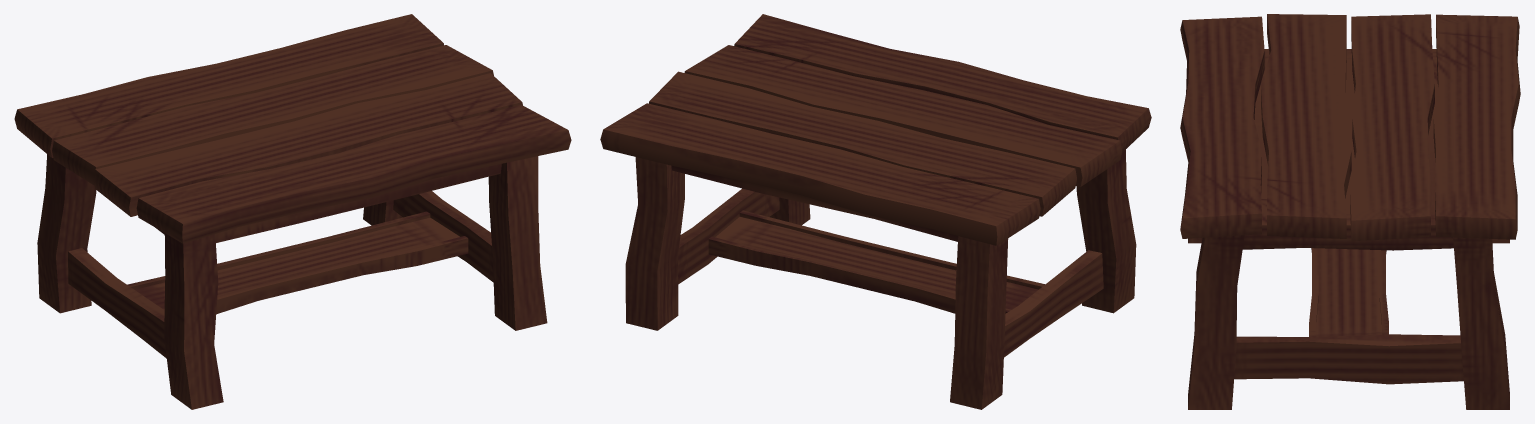
Rendered from WizardHubTableNoCloth.fbx.
3 renders of one model, left to right at view 1: azimuth 30°, elevation 25°; view 2: azimuth 150°, elevation 25°; view 3: azimuth 270°, elevation 25°, orthographic. The views are drawn at different scales.
Visible parts, largest first — view 1: polySurface13; view 2: polySurface13; view 3: polySurface13.
Boxes of the visible parts, left/top/right/bottom form: polySurface13: left=14, top=14, right=571, bottom=409; polySurface13: left=600, top=14, right=1151, bottom=409; polySurface13: left=1180, top=14, right=1520, bottom=409.
Size of the model in its own units: 3.25 by 1.46 by 2.24.
1 material, 1 textured.
